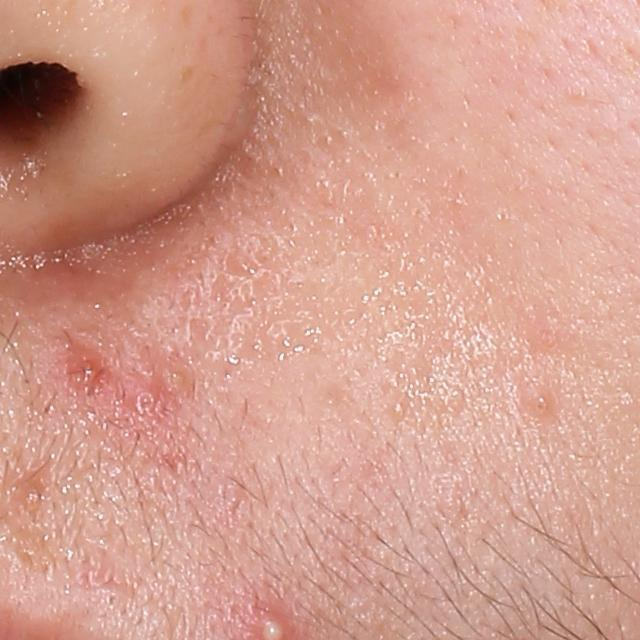comedo: (130, 386, 168, 422), (529, 388, 560, 422)
papule: (64, 352, 102, 392)
